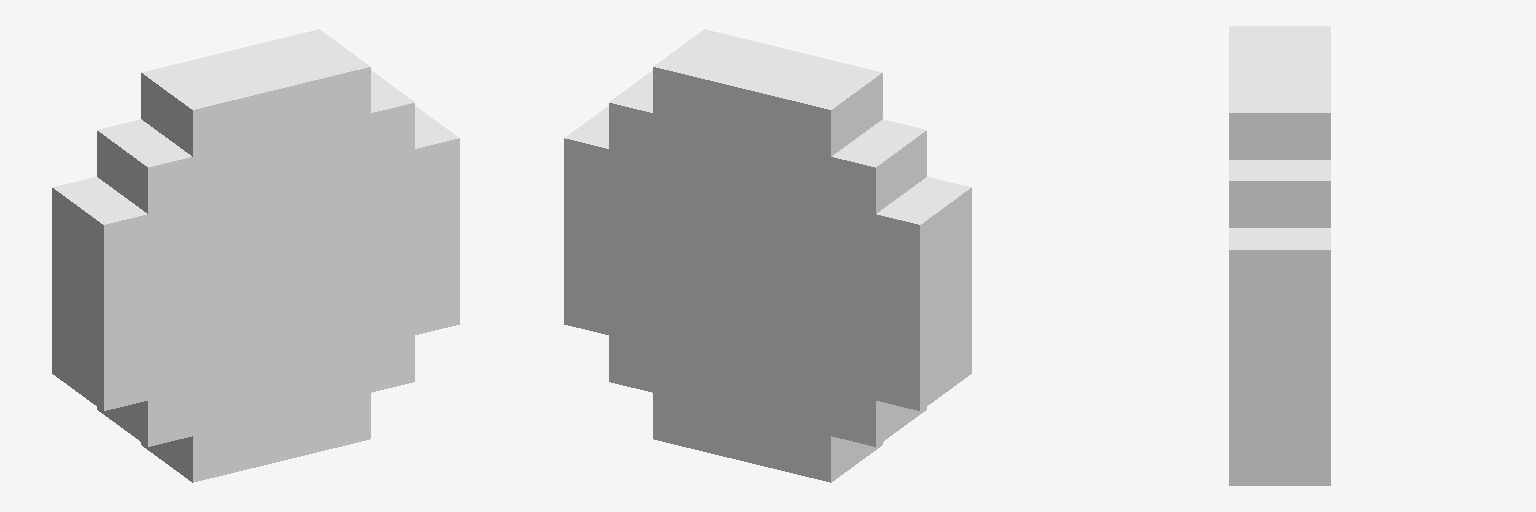
The model's file is robot_ground-2.obj.
3 renders of one model, left to right at view 1: azimuth 30°, elevation 25°; view 2: azimuth 150°, elevation 25°; view 3: azimuth 270°, elevation 25°, orthographic.
Parts seen in each view (by area): view 1: object 1; view 2: object 1; view 3: object 1.
Part boxes in pixels (left/top/right/bottom): object 1: left=52, top=29, right=459, bottom=482; object 1: left=564, top=29, right=971, bottom=482; object 1: left=1229, top=26, right=1330, bottom=485.
Size of the model in its own units: 0.8 by 0.8 by 0.2.